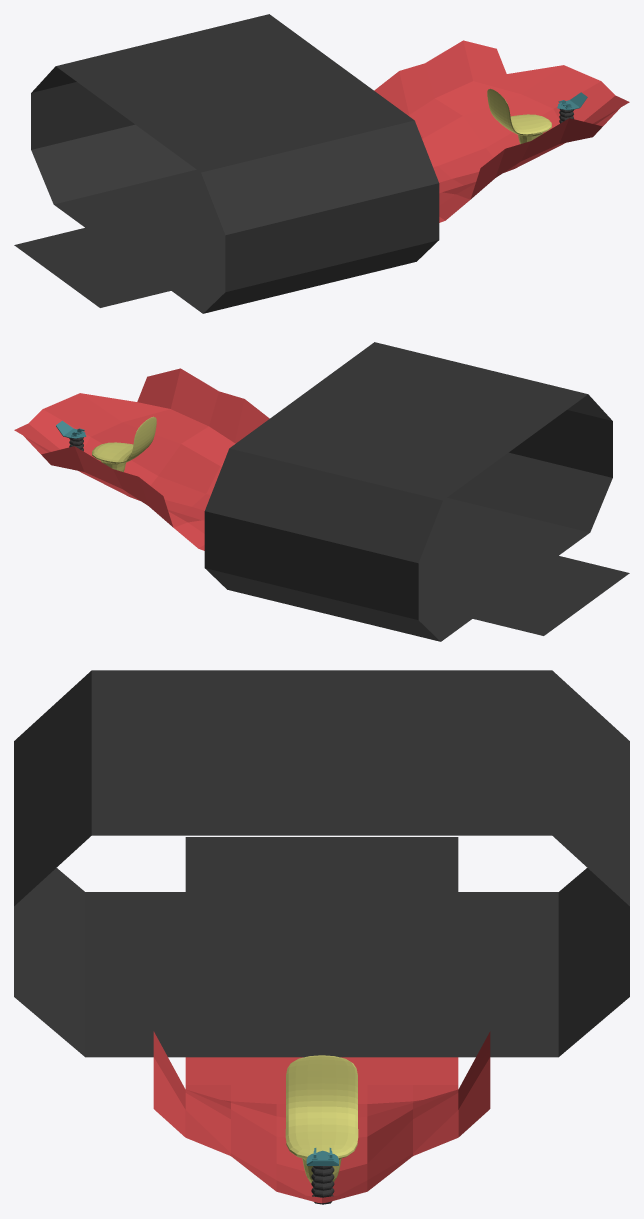
Rendered from ship_test.fbx.
3 renders of one model, top to bottom at view 1: azimuth 30°, elevation 25°; view 2: azimuth 150°, elevation 25°; view 3: azimuth 270°, elevation 25°, orthographic. The views are drawn at different scales.
Parts seen in each view (by area): view 1: Plane.004, Plane.001, Cube; view 2: Plane.004, Plane.001, Cube; view 3: Plane.004, Plane.001, Cube.
Boxes of the visible parts, bbox=[...] form: Plane.004: bbox=[14, 14, 439, 313]; Plane.001: bbox=[374, 40, 629, 222]; Cube: bbox=[487, 88, 551, 143]; Plane.004: bbox=[204, 342, 629, 641]; Plane.001: bbox=[14, 368, 269, 550]; Cube: bbox=[92, 416, 156, 471]; Plane.004: bbox=[14, 670, 629, 1057]; Plane.001: bbox=[153, 1031, 490, 1203]; Cube: bbox=[285, 1055, 358, 1183].
Size of the model in its own units: 749 by 179 by 451.
